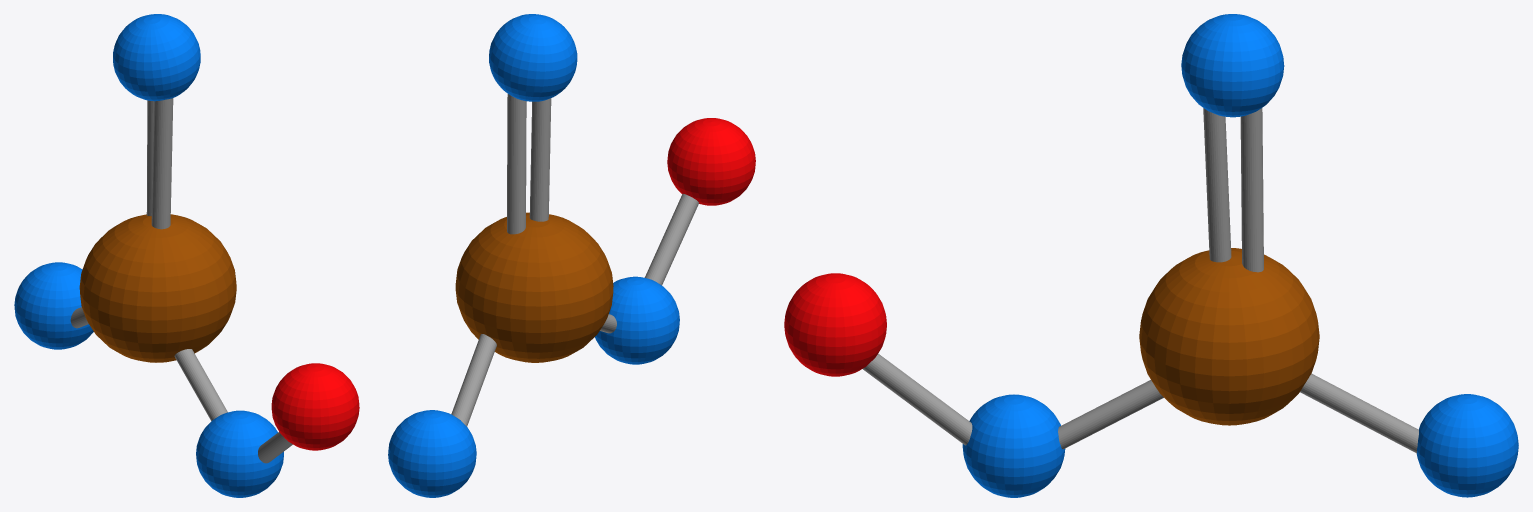
The model's file is hno3.gltf.
The picture shows the model from 3 angles, left to right: view 1: azimuth 30°, elevation 25°; view 2: azimuth 150°, elevation 25°; view 3: azimuth 270°, elevation 25°; orthographic projection. The views are drawn at different scales.
Visible parts, largest first — view 1: Sphere, Sphere.003, Sphere.001, Sphere.002, Sphere.004, Cylinder.002, Cylinder, Cylinder.001, Cylinder.005; view 2: Sphere, Sphere.001, Sphere.004, Sphere.003, Sphere.002, Cylinder.001, Cylinder.002, Cylinder.005, Cylinder.004; view 3: Sphere, Sphere.003, Sphere.001, Sphere.004, Sphere.002, Cylinder.001, Cylinder.002, Cylinder.004, Cylinder.005, Cylinder.
Boxes of the visible parts, left/top/right/bottom form: Sphere: left=79, top=214, right=236, bottom=362; Sphere.003: left=271, top=363, right=359, bottom=450; Sphere.001: left=113, top=14, right=200, bottom=101; Sphere.002: left=196, top=410, right=283, bottom=497; Sphere.004: left=14, top=262, right=93, bottom=349; Cylinder.002: left=151, top=98, right=173, bottom=229; Cylinder: left=174, top=349, right=227, bottom=420; Cylinder.001: left=146, top=100, right=154, bottom=216; Cylinder.005: left=258, top=432, right=292, bottom=463; Sphere: left=455, top=212, right=613, bottom=362; Sphere.001: left=489, top=14, right=577, bottom=101; Sphere.004: left=388, top=410, right=476, bottom=497; Sphere.003: left=667, top=118, right=755, bottom=205; Sphere.002: left=595, top=276, right=679, bottom=364; Cylinder.001: left=507, top=94, right=526, bottom=234; Cylinder.002: left=529, top=98, right=551, bottom=221; Cylinder.005: left=644, top=193, right=698, bottom=285; Cylinder.004: left=451, top=334, right=496, bottom=426; Sphere: left=1139, top=248, right=1319, bottom=425; Sphere.003: left=784, top=273, right=886, bottom=376; Sphere.001: left=1181, top=14, right=1284, bottom=117; Sphere.004: left=1416, top=394, right=1518, bottom=497; Sphere.002: left=962, top=394, right=1065, bottom=497; Cylinder.001: left=1240, top=108, right=1263, bottom=272; Cylinder.002: left=1203, top=108, right=1231, bottom=262; Cylinder.004: left=1300, top=373, right=1418, bottom=453; Cylinder.005: left=863, top=353, right=972, bottom=445; Cylinder: left=1058, top=380, right=1163, bottom=449.
Bounding box in the file's own units: 4.66 × 13.13 × 18.22.
